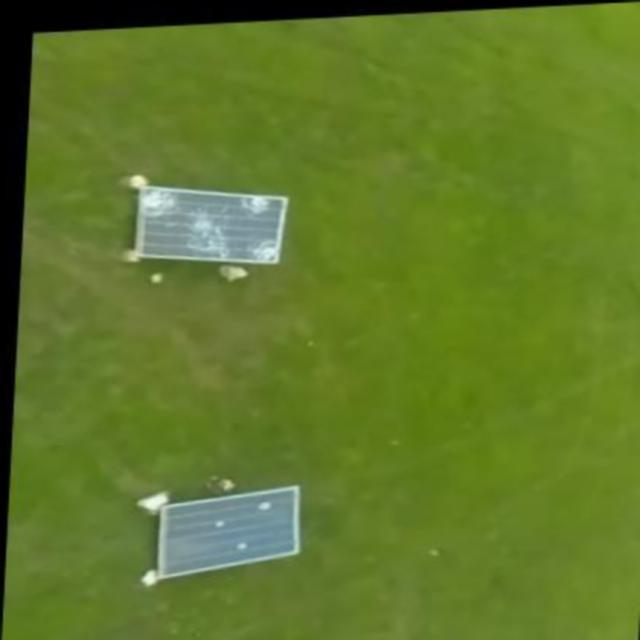cracked: (130, 178, 292, 267)
soiled: (150, 488, 300, 580)
